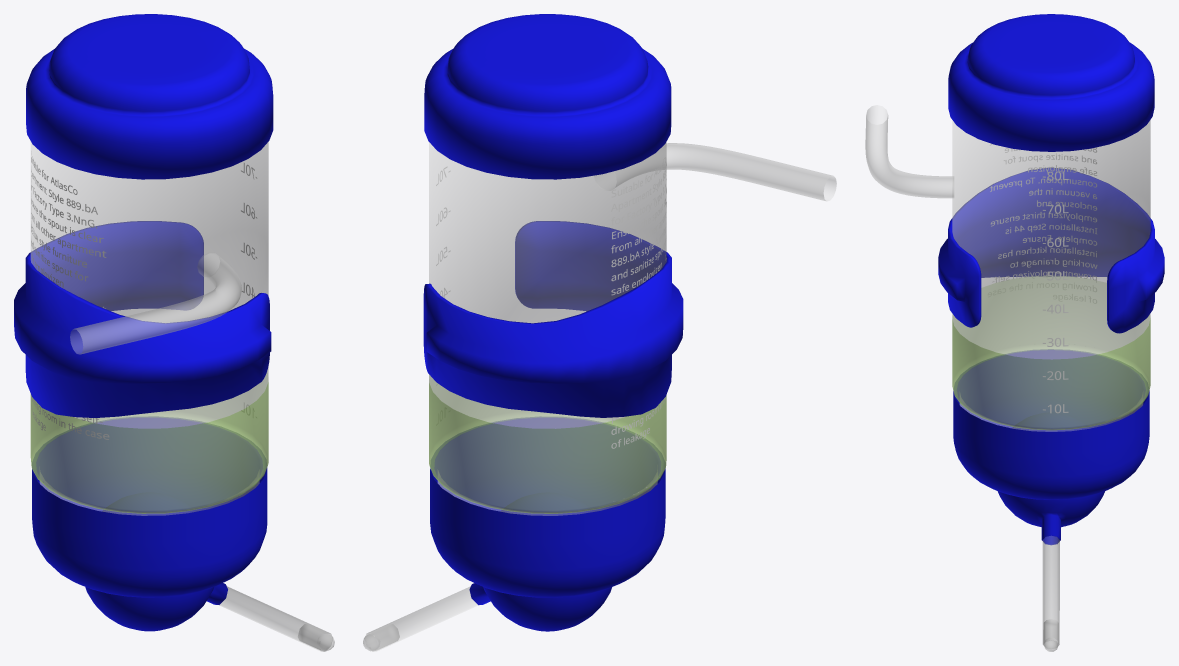
File: water_feeder.glb
The picture shows the model from 3 angles, left to right: view 1: azimuth 30°, elevation 25°; view 2: azimuth 150°, elevation 25°; view 3: azimuth 270°, elevation 25°; orthographic projection. The views are drawn at different scales.
Visible parts, largest first — view 1: Cylinder.008; view 2: Cylinder.008; view 3: Cylinder.008.
Boxes of the visible parts, left/top/right/bottom form: Cylinder.008: left=14, top=14, right=334, bottom=651; Cylinder.008: left=363, top=14, right=836, bottom=651; Cylinder.008: left=865, top=14, right=1164, bottom=651.
Size of the model in its own units: 0.5342 by 0.9087 by 0.4596.
4 materials, 1 textured.
